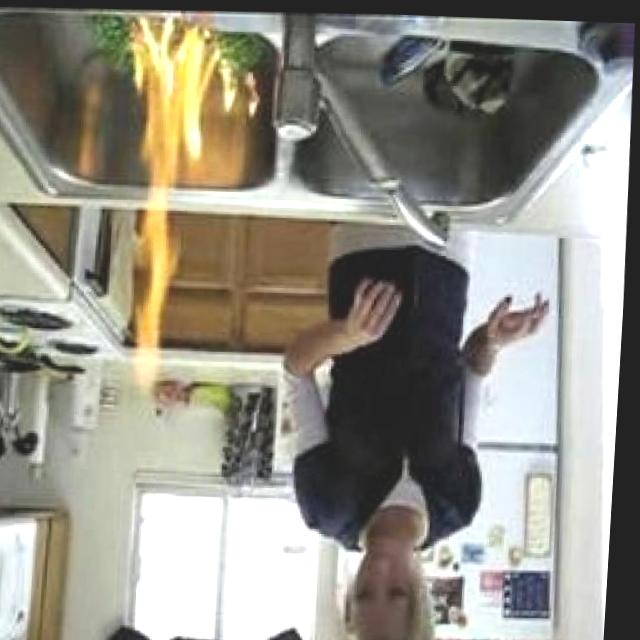Fire: (111, 6, 224, 395), (216, 41, 263, 118)
